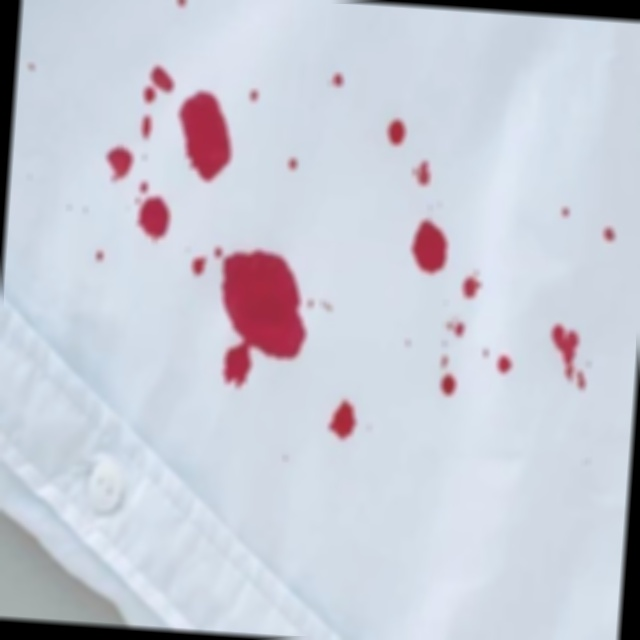blood: (377, 211, 531, 408), (95, 64, 238, 248), (208, 240, 316, 395)
